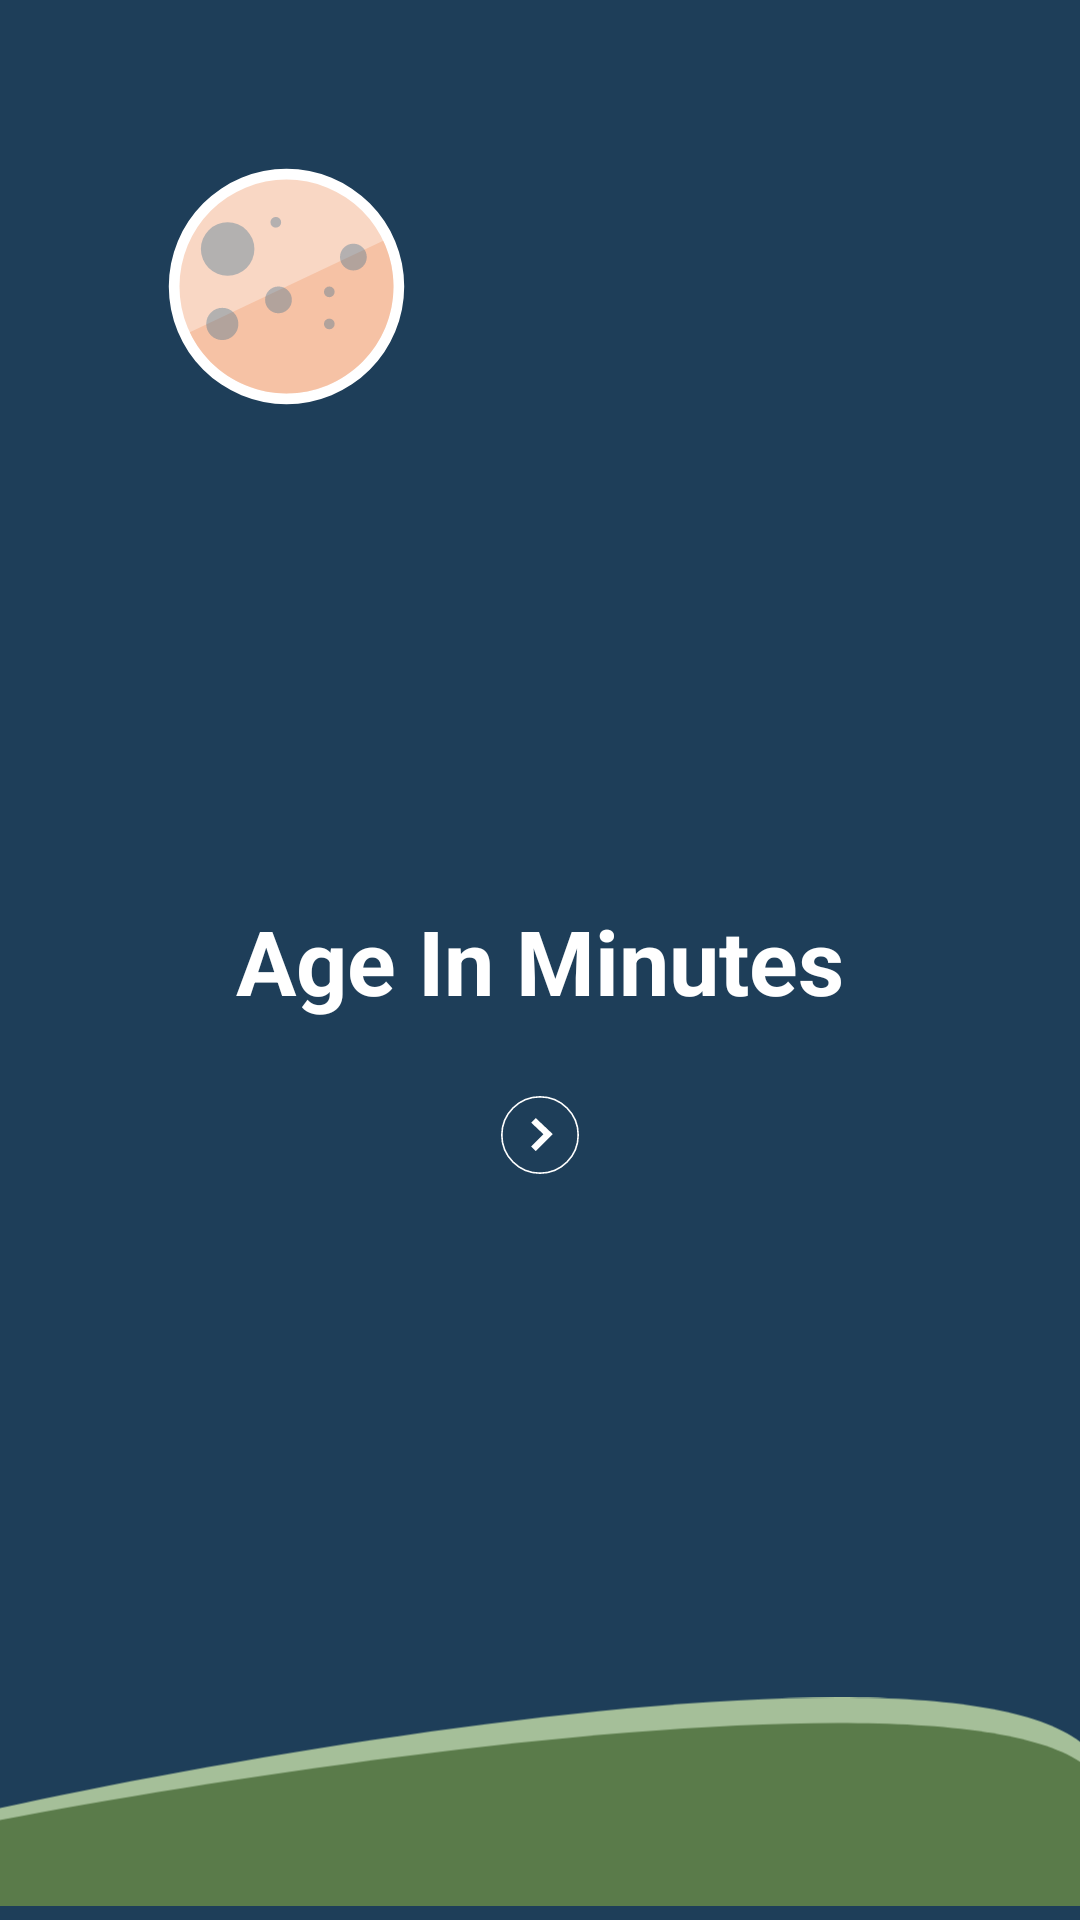

Locate icon controls on the screen. Image size 1080 × 1920, boxes as [x1, y1, x2, y2].
moon: [168, 168, 405, 405]
next: [501, 1096, 579, 1174]
